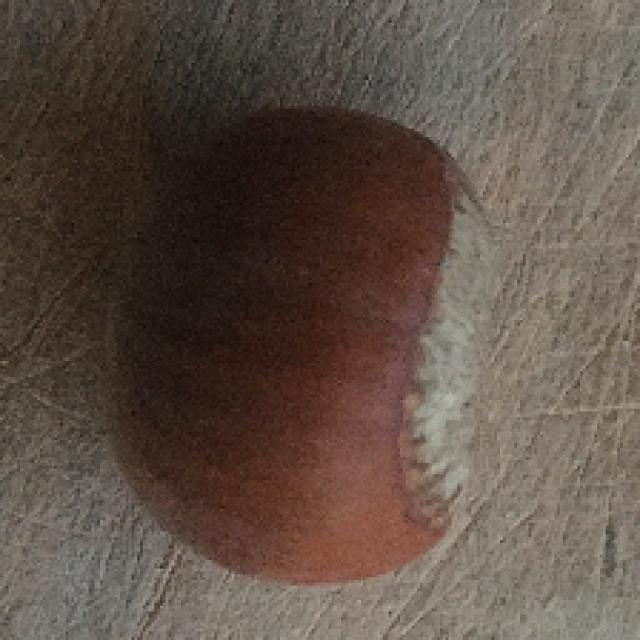qualityHazelnut: (88, 93, 503, 592)
